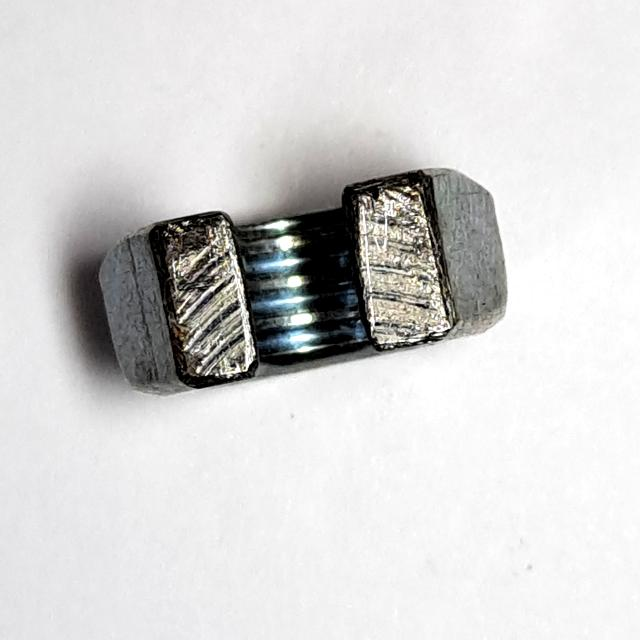Side-Fracture: (85, 154, 531, 415)
